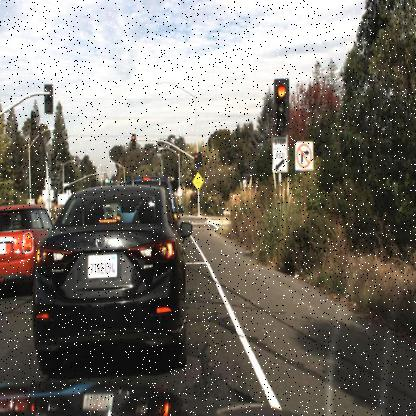car: (25, 180, 193, 372), (0, 193, 57, 300)
trafficLight-Red: (266, 61, 297, 154), (272, 78, 291, 136), (126, 126, 138, 155), (191, 146, 201, 176), (130, 132, 138, 152), (193, 151, 200, 169)
